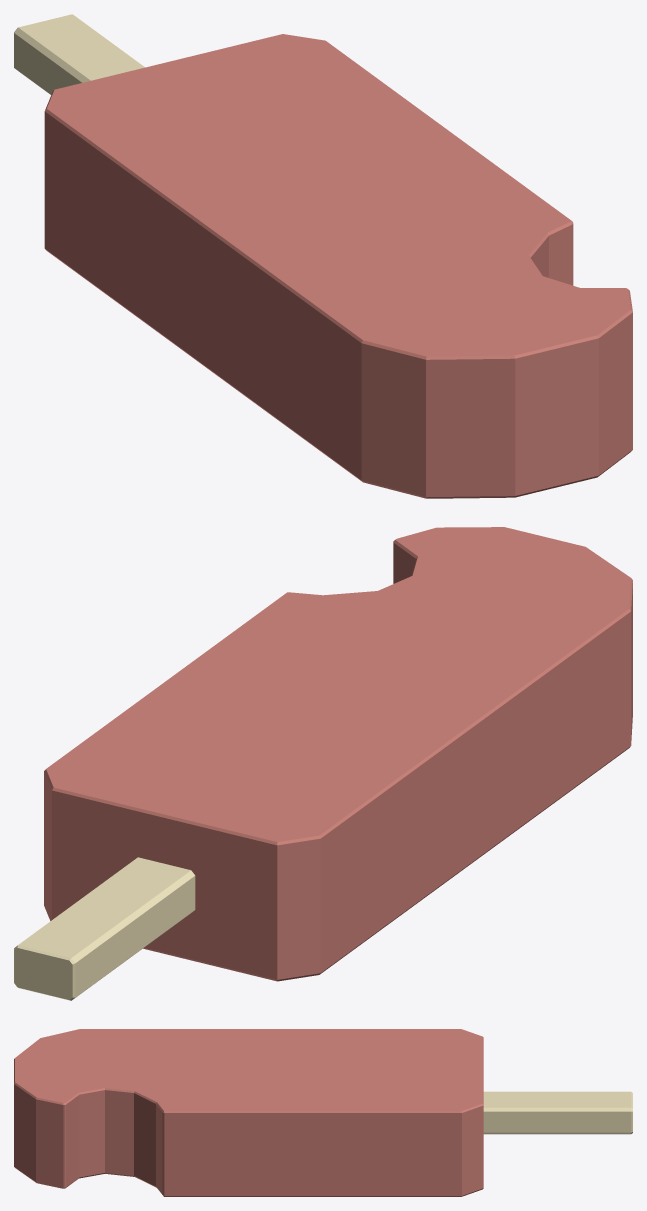
File: popsicle.glb
3 renders of one model, top to bottom at view 1: azimuth 30°, elevation 25°; view 2: azimuth 150°, elevation 25°; view 3: azimuth 270°, elevation 25°, orthographic. The views are drawn at different scales.
Parts seen in each view (by area): view 1: popsicle; view 2: popsicle; view 3: popsicle.
Part boxes in pixels (<box>): popsicle: <box>14,14,632,498</box>; popsicle: <box>14,527,632,1000</box>; popsicle: <box>14,1029,632,1196</box>.
Size of the model in its own units: 0.054 by 0.026 by 0.17.
